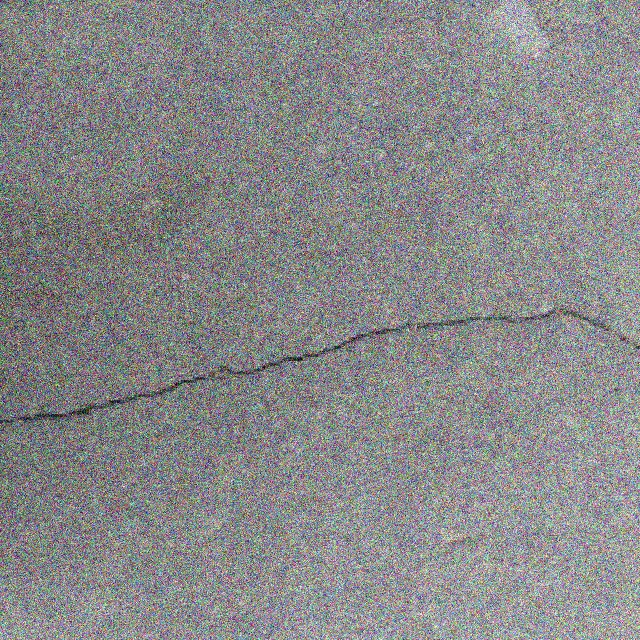SurfaceCrack: (0, 278, 630, 466)
